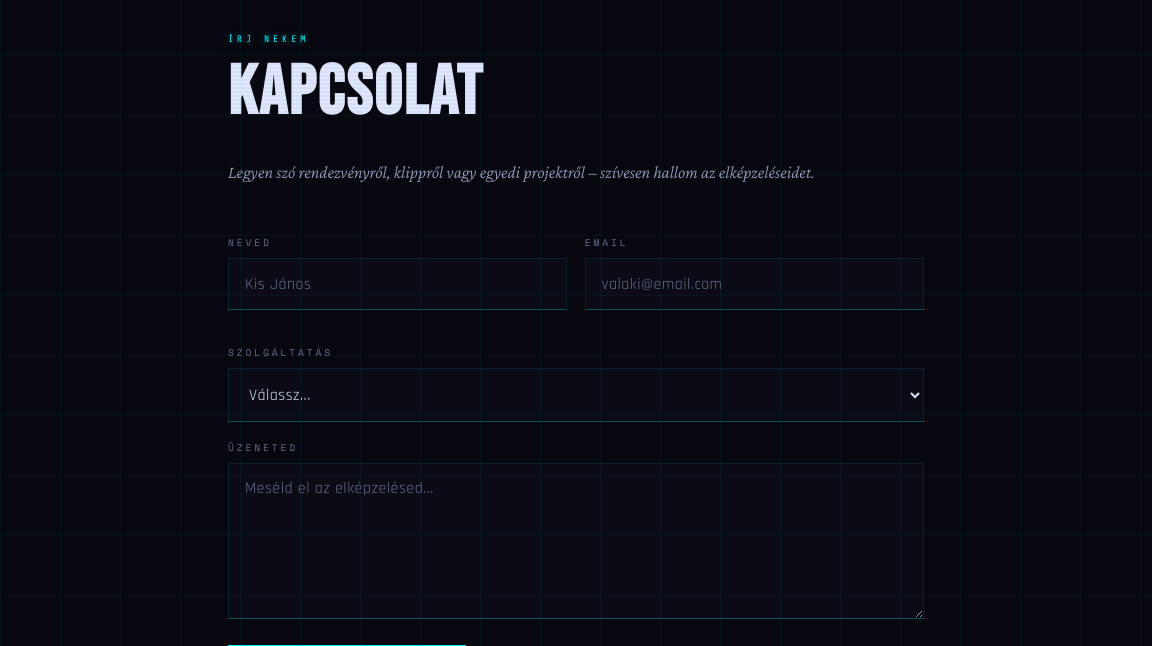
Test case: Contact – validáció › hibás email formátum – hibaüzenet jelenik meg
The width and height of the screenshot is (1152, 646).
Type "Teszt Elek" into the field labelled "Neved" at (398, 284), box [228, 258, 567, 310]
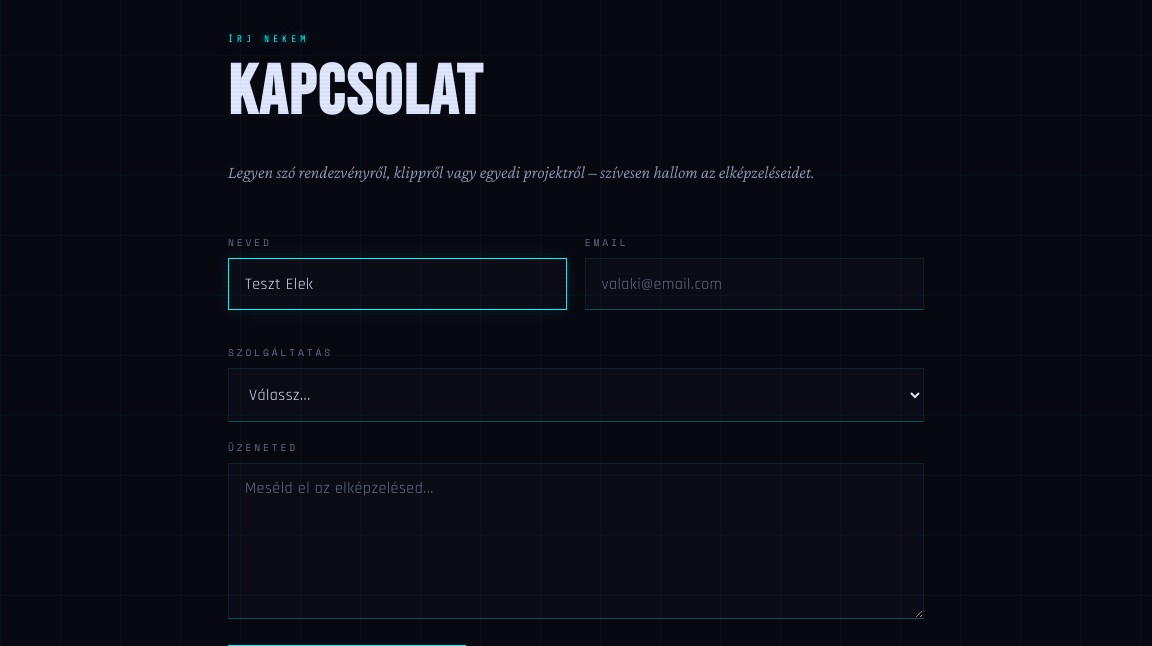
Type "nemvalid" into the field labelled "Email" at (754, 284), box [585, 258, 924, 310]
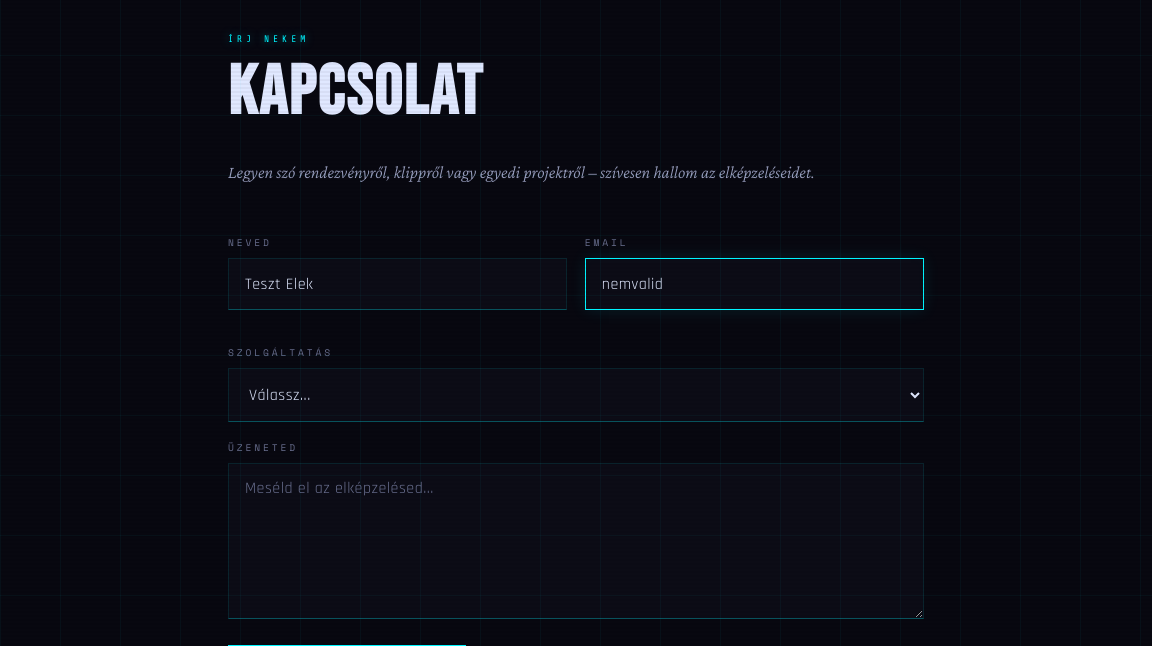
Type "Helló!" into the text box labelled "Üzeneted" at (576, 541), box [228, 463, 924, 620]
(page scrolled)
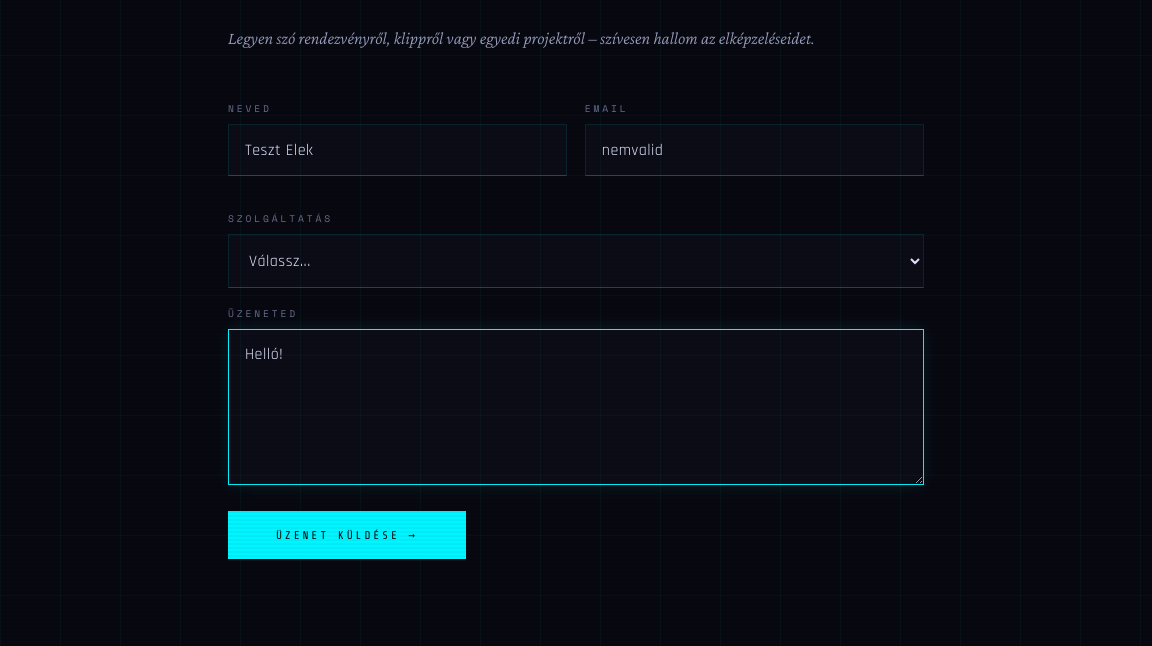
Click the button "Üzenet küldése →" at (347, 535), box [228, 511, 466, 559]
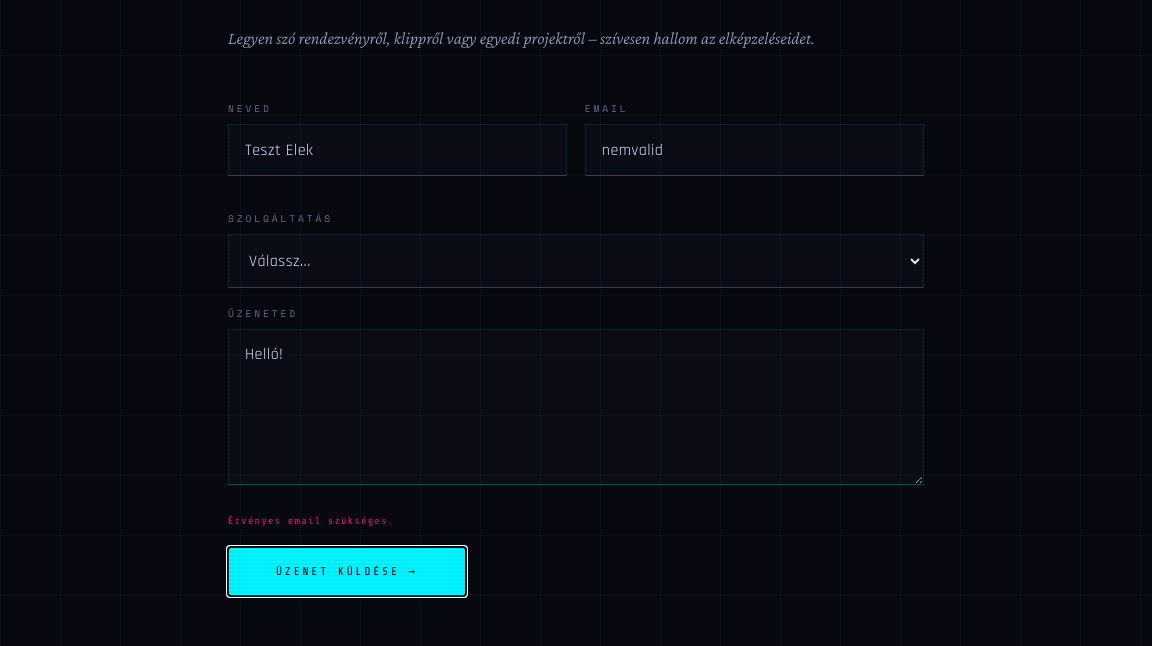
Check: the text "Érvényes email szükséges." is shown, box [228, 515, 394, 527]
